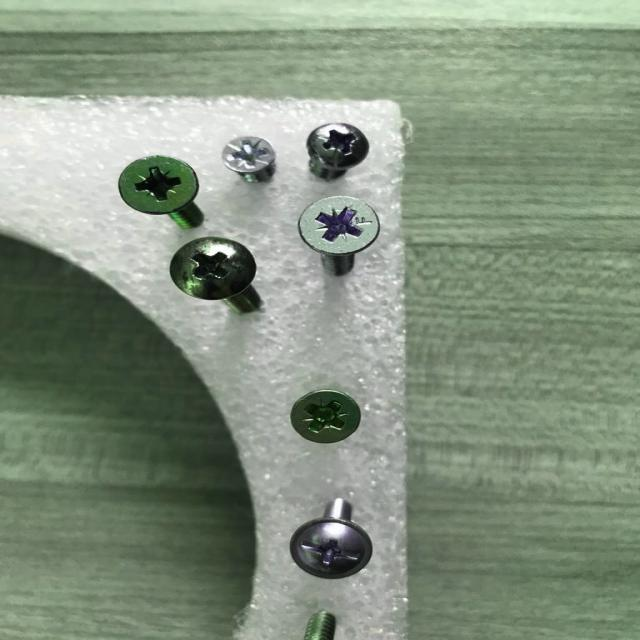PhillipsScrewHead: (171, 236, 256, 299), (290, 518, 374, 580), (298, 195, 381, 254), (118, 155, 199, 214), (290, 389, 360, 443), (307, 121, 370, 166), (222, 135, 276, 174)
